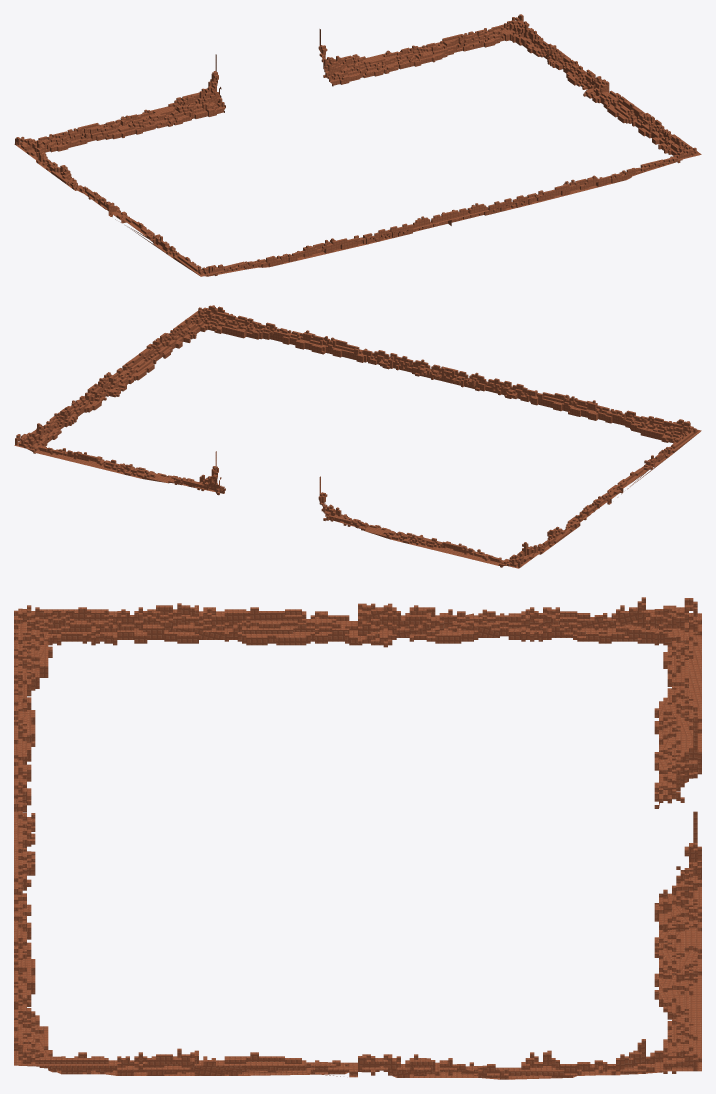
File: ChocoWall.FBX
The picture shows the model from 3 angles, top to bottom: view 1: azimuth 30°, elevation 25°; view 2: azimuth 150°, elevation 25°; view 3: azimuth 270°, elevation 25°; orthographic projection. The views are drawn at different scales.
Parts seen in each view (by area): view 1: Cliff; view 2: Cliff; view 3: Cliff.
Part boxes in pixels (<box>): Cliff: <box>14,14,701,276</box>; Cliff: <box>14,305,701,568</box>; Cliff: <box>14,597,701,1079</box>.
Bounding box in the file's own units: 252 × 160 × 24.
